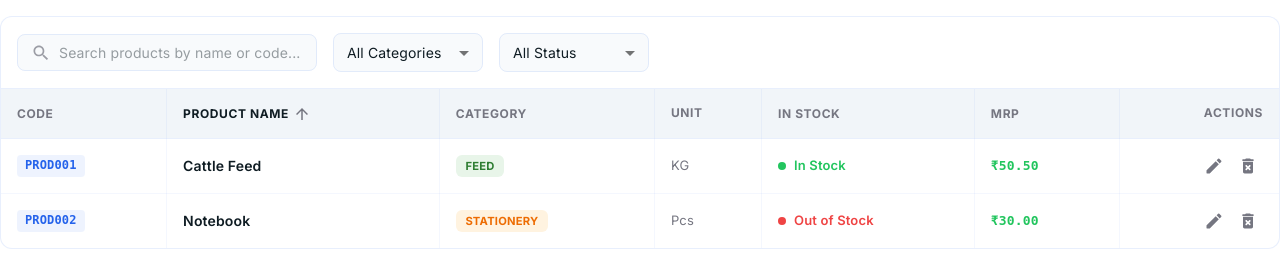
Scenario: ProductsTable › filters products by stock status
Note: Find stock status filter dropdown
Press the mouse on the dropdown labelled "All Status" at (545, 52), box [513,44,577,61]
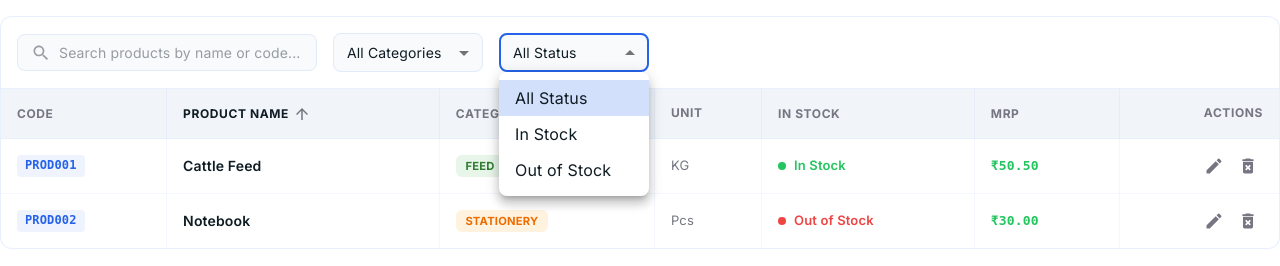
Click the option "Out of Stock".
click(563, 170)  # box [515,160,611,180]
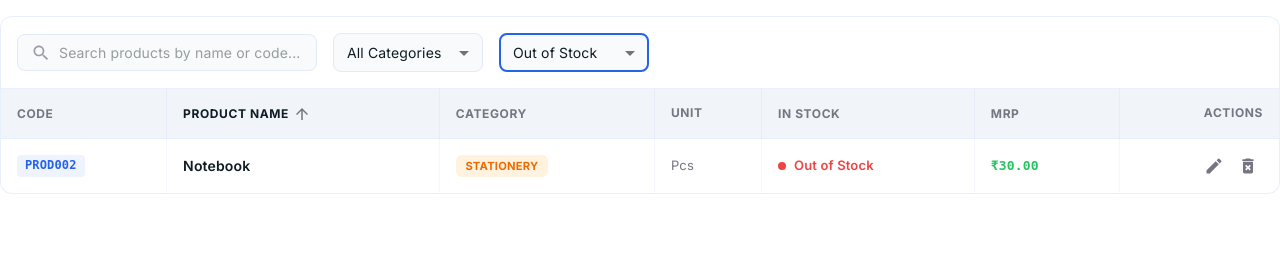
Expected: the text "Notebook" is shown, [183,157,250,174]
Result: the text "Cattle Feed" is gone
